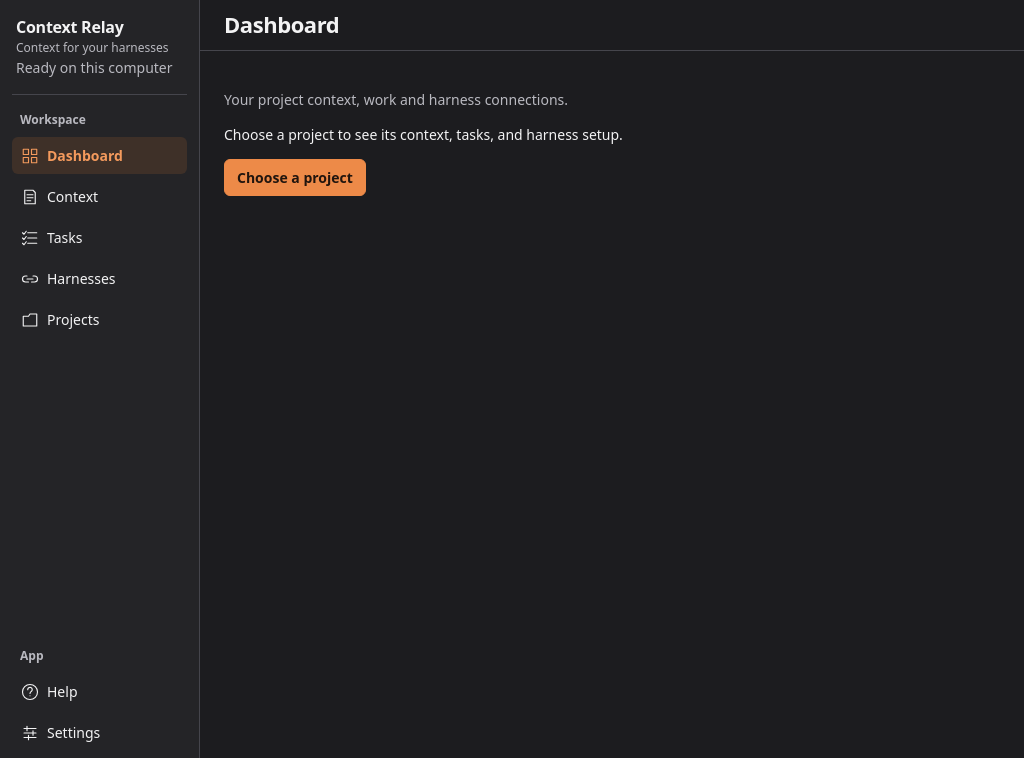
Test: lets a user clear full recovery storage without leaving or losing the current draft
The image size is (1024, 758).
Expected: the text "Ready on this computer" is shown, [16, 58, 173, 77]
Click the button "Context": (100, 196) [12, 178, 187, 215]
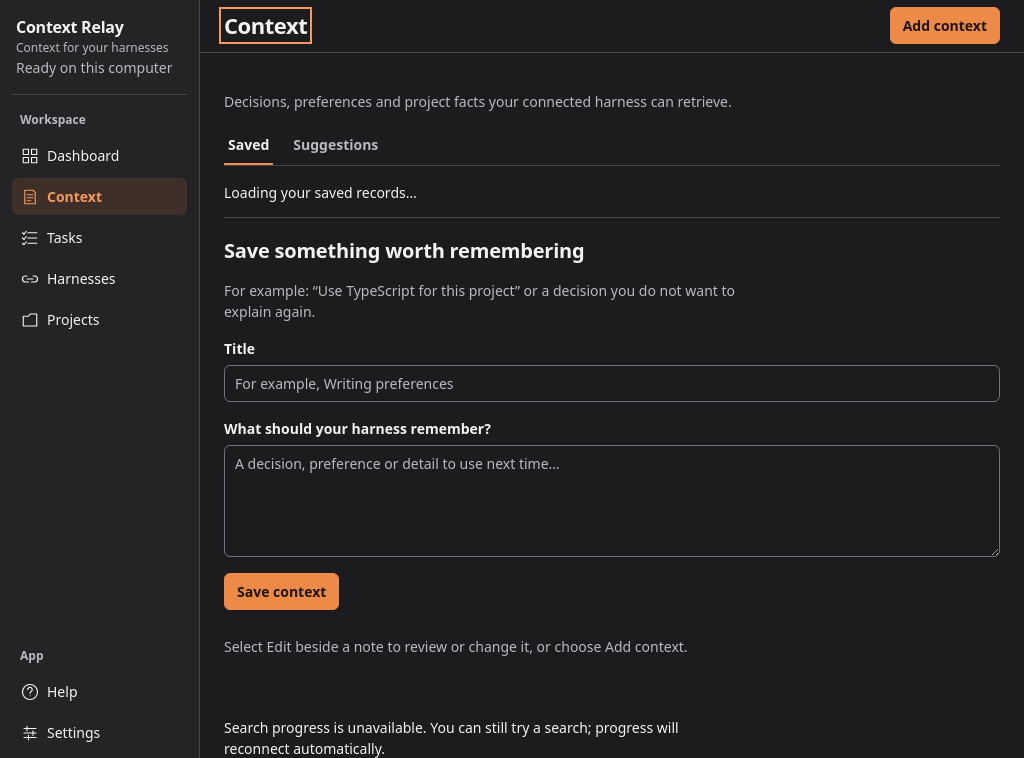
Click the button "Add context": (945, 26) [890, 7, 1000, 44]
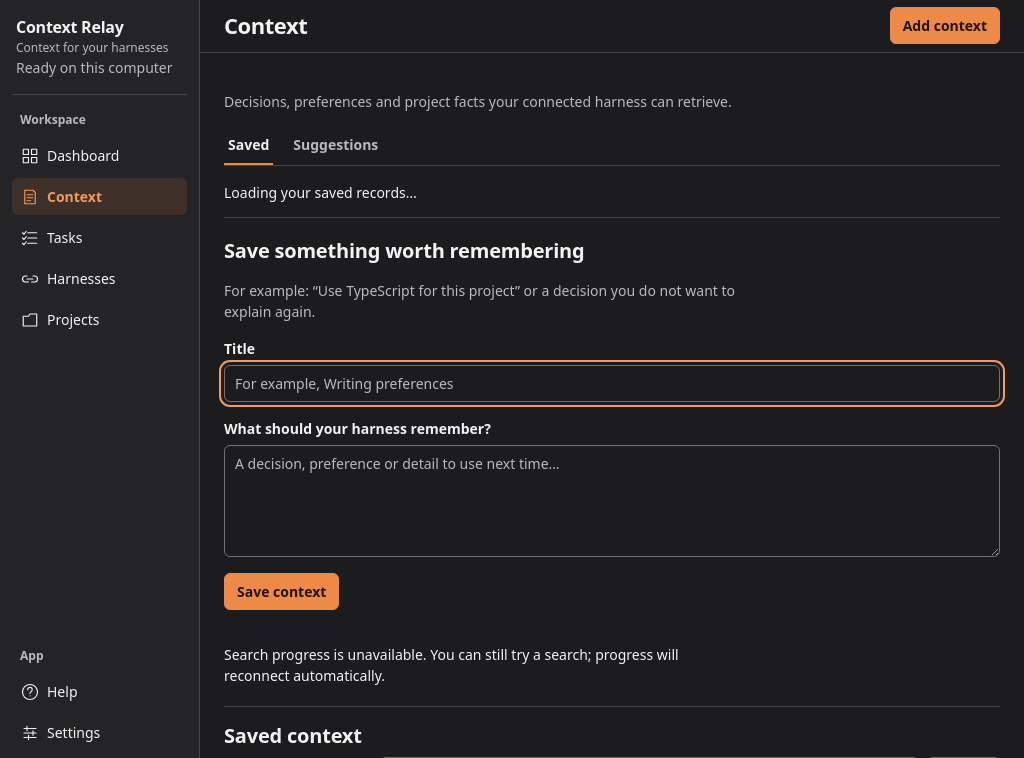
In the field labelled "Title": (612, 384) [224, 365, 1000, 402], type "Unsaved decision"
In the text box labelled "What should your harness remember?": (612, 501) [224, 445, 1000, 557], type "Do not lose this draft."
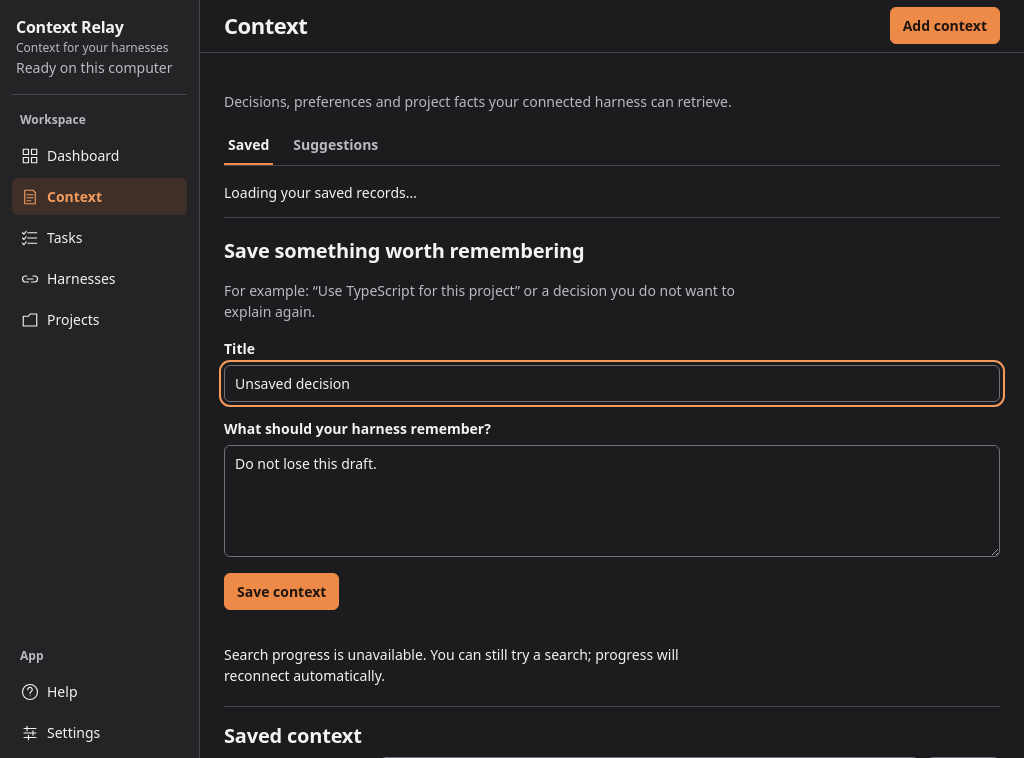
Click the button "Save context": (282, 592) [224, 573, 339, 610]
(page scrolled)
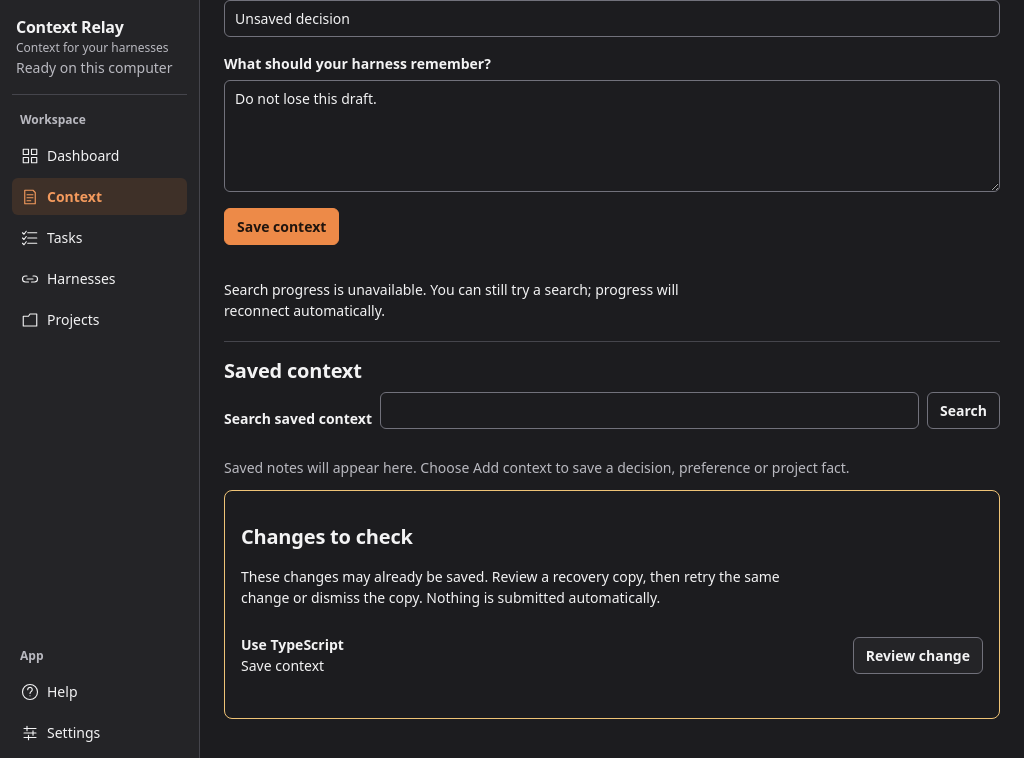
Click the button with aria-label "Review change: Use TypeScript": (918, 655) [853, 637, 983, 674]
(page scrolled)
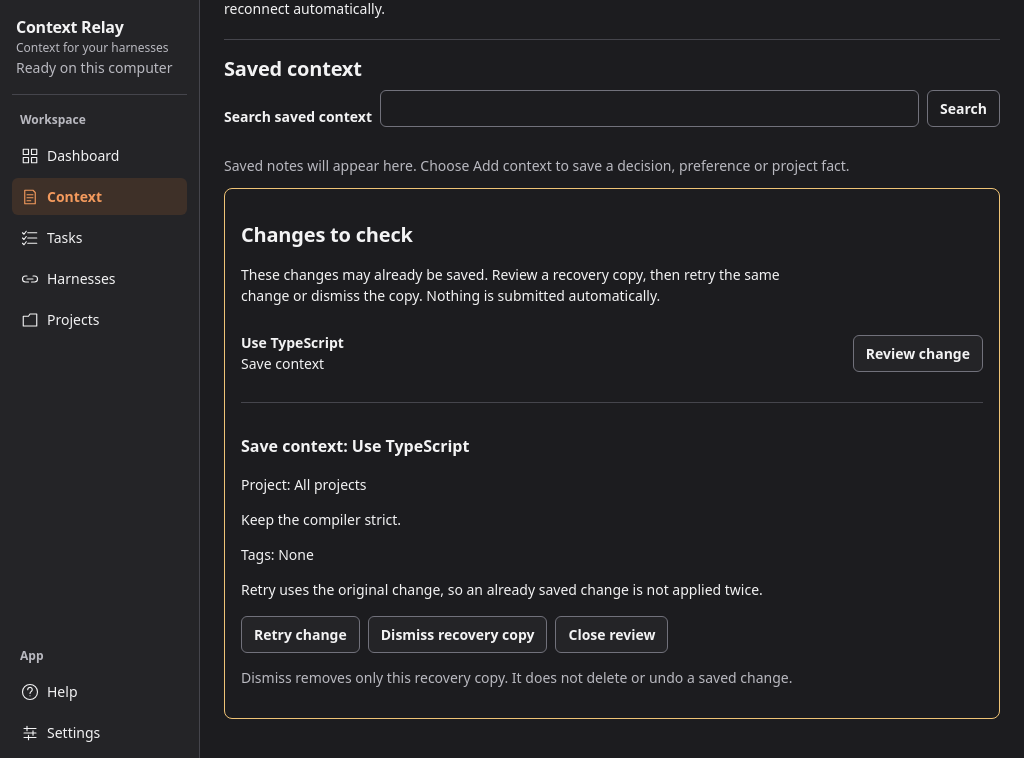
Click the button "Dismiss recovery copy": (458, 634) [368, 616, 548, 653]
(page scrolled)
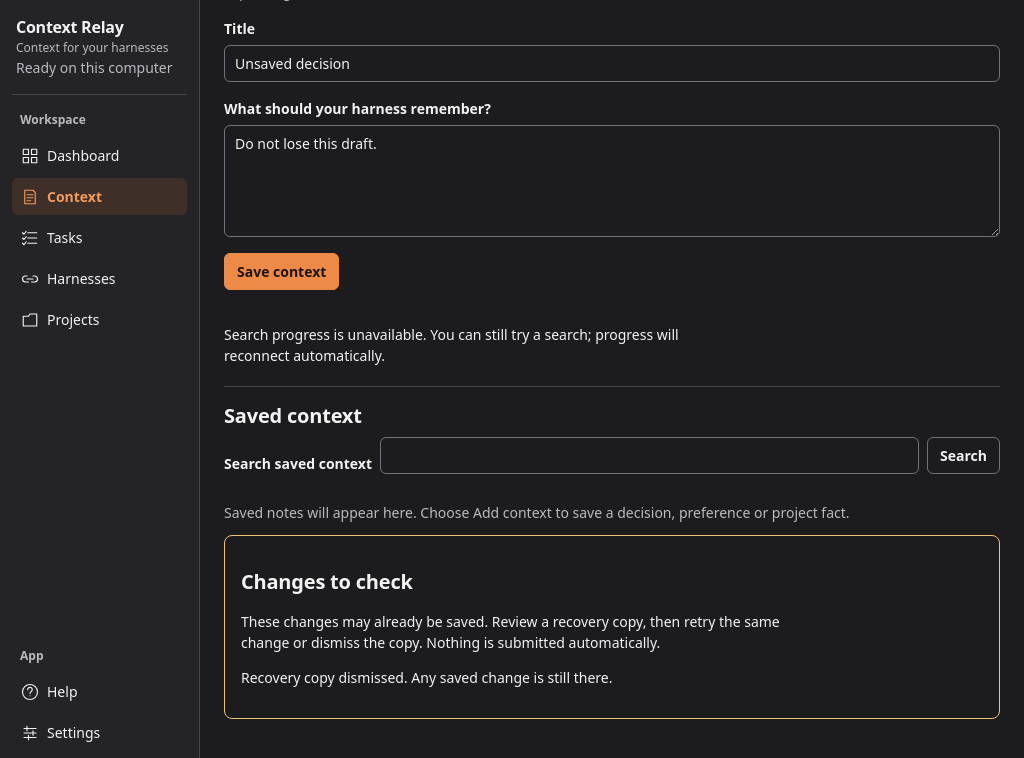
Expected: the text "Recovery copy dismissed. Any saved change is still there." is shown, [241, 668, 612, 687]
